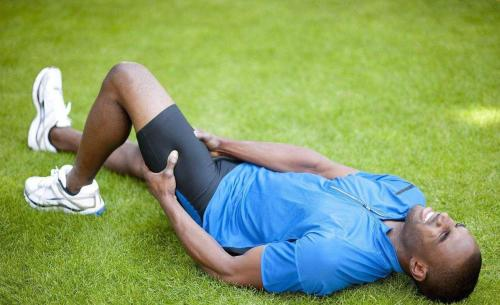fall: (16, 29, 488, 305)
